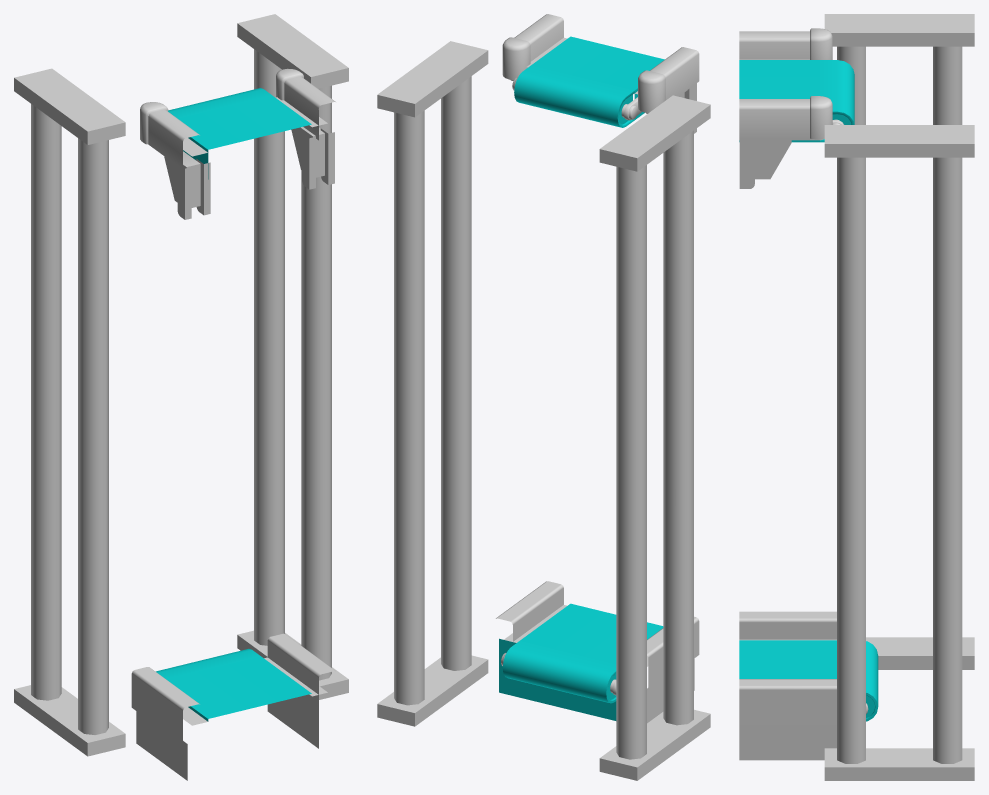
File: Lift2UpBackwardInternalVariant.gltf
The picture shows the model from 3 angles, left to right: view 1: azimuth 30°, elevation 25°; view 2: azimuth 150°, elevation 25°; view 3: azimuth 270°, elevation 25°; orthographic projection. The views are drawn at different scales.
Parts seen in each view (by area): view 1: Lift_2UpBackward_Layer0_LOD0; view 2: Lift_2UpBackward_Layer0_LOD0; view 3: Lift_2UpBackward_Layer0_LOD0.
Boxes of the visible parts, x1,y1,x2,y2 form: Lift_2UpBackward_Layer0_LOD0: (14, 14, 348, 780); Lift_2UpBackward_Layer0_LOD0: (377, 14, 710, 780); Lift_2UpBackward_Layer0_LOD0: (739, 14, 974, 780).
Bounding box in the file's own units: 0.9604 × 2.27 × 0.7356.
